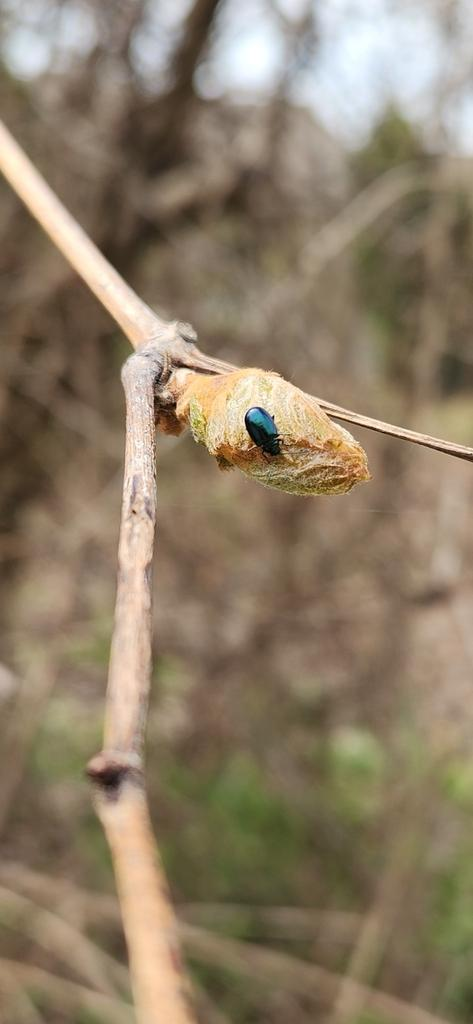flea_beetle: (226, 393, 308, 484)
